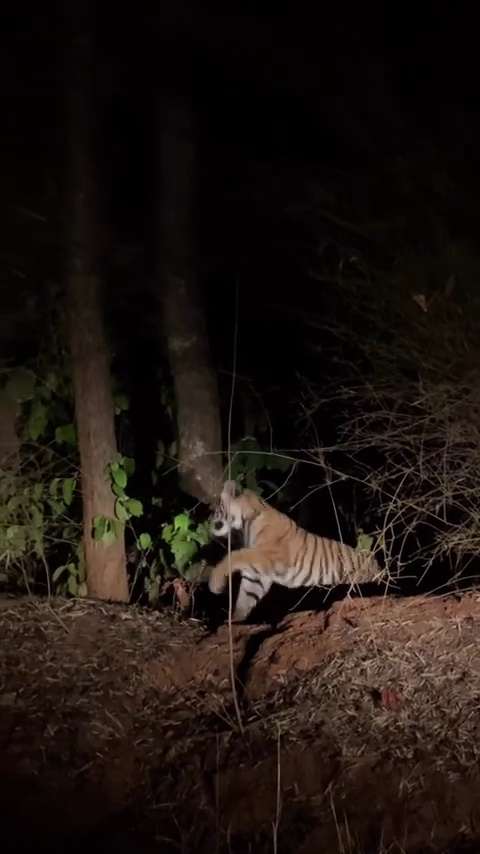Tiger: (204, 478, 387, 624)
